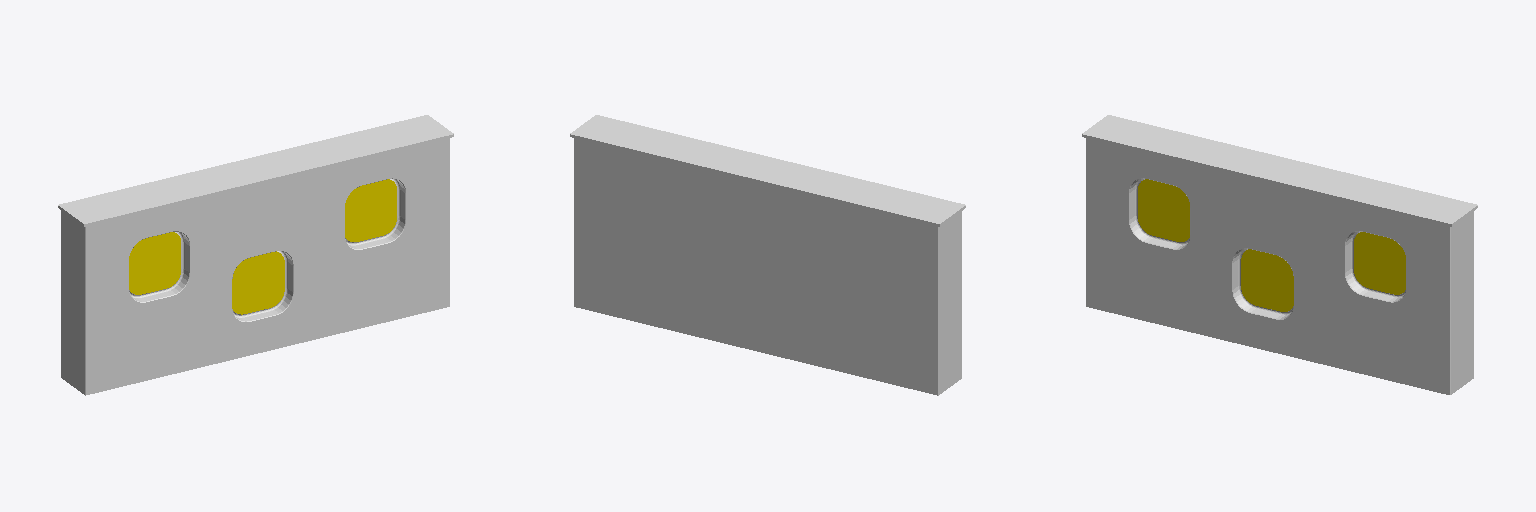
3 views of the same model, side by side, from view 1: azimuth 30°, elevation 25°; view 2: azimuth 150°, elevation 25°; view 3: azimuth 330°, elevation 25° (orthographic).
Visible parts, largest first — view 1: wall_R1; view 2: wall_R1; view 3: wall_R1.
Part boxes in pixels (x1,y1,x2,y2): wall_R1: (58, 115, 453, 395); wall_R1: (570, 115, 965, 395); wall_R1: (1082, 115, 1477, 394).
Bounding box in the file's own units: 37.76 × 16.87 × 4.71.
3 materials, 2 textured.